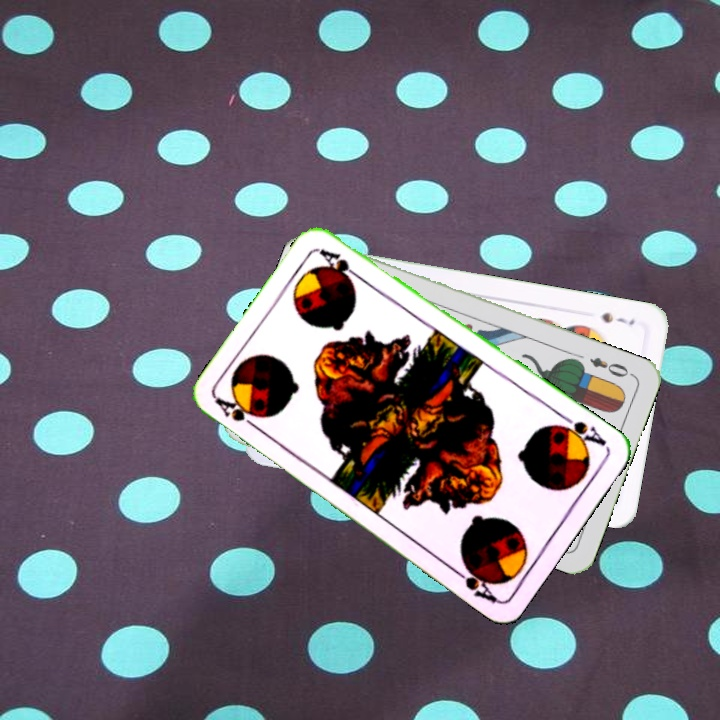EO: (585, 353, 636, 380)
S7: (597, 308, 637, 328)
SA: (551, 410, 609, 451), (211, 394, 264, 434)
